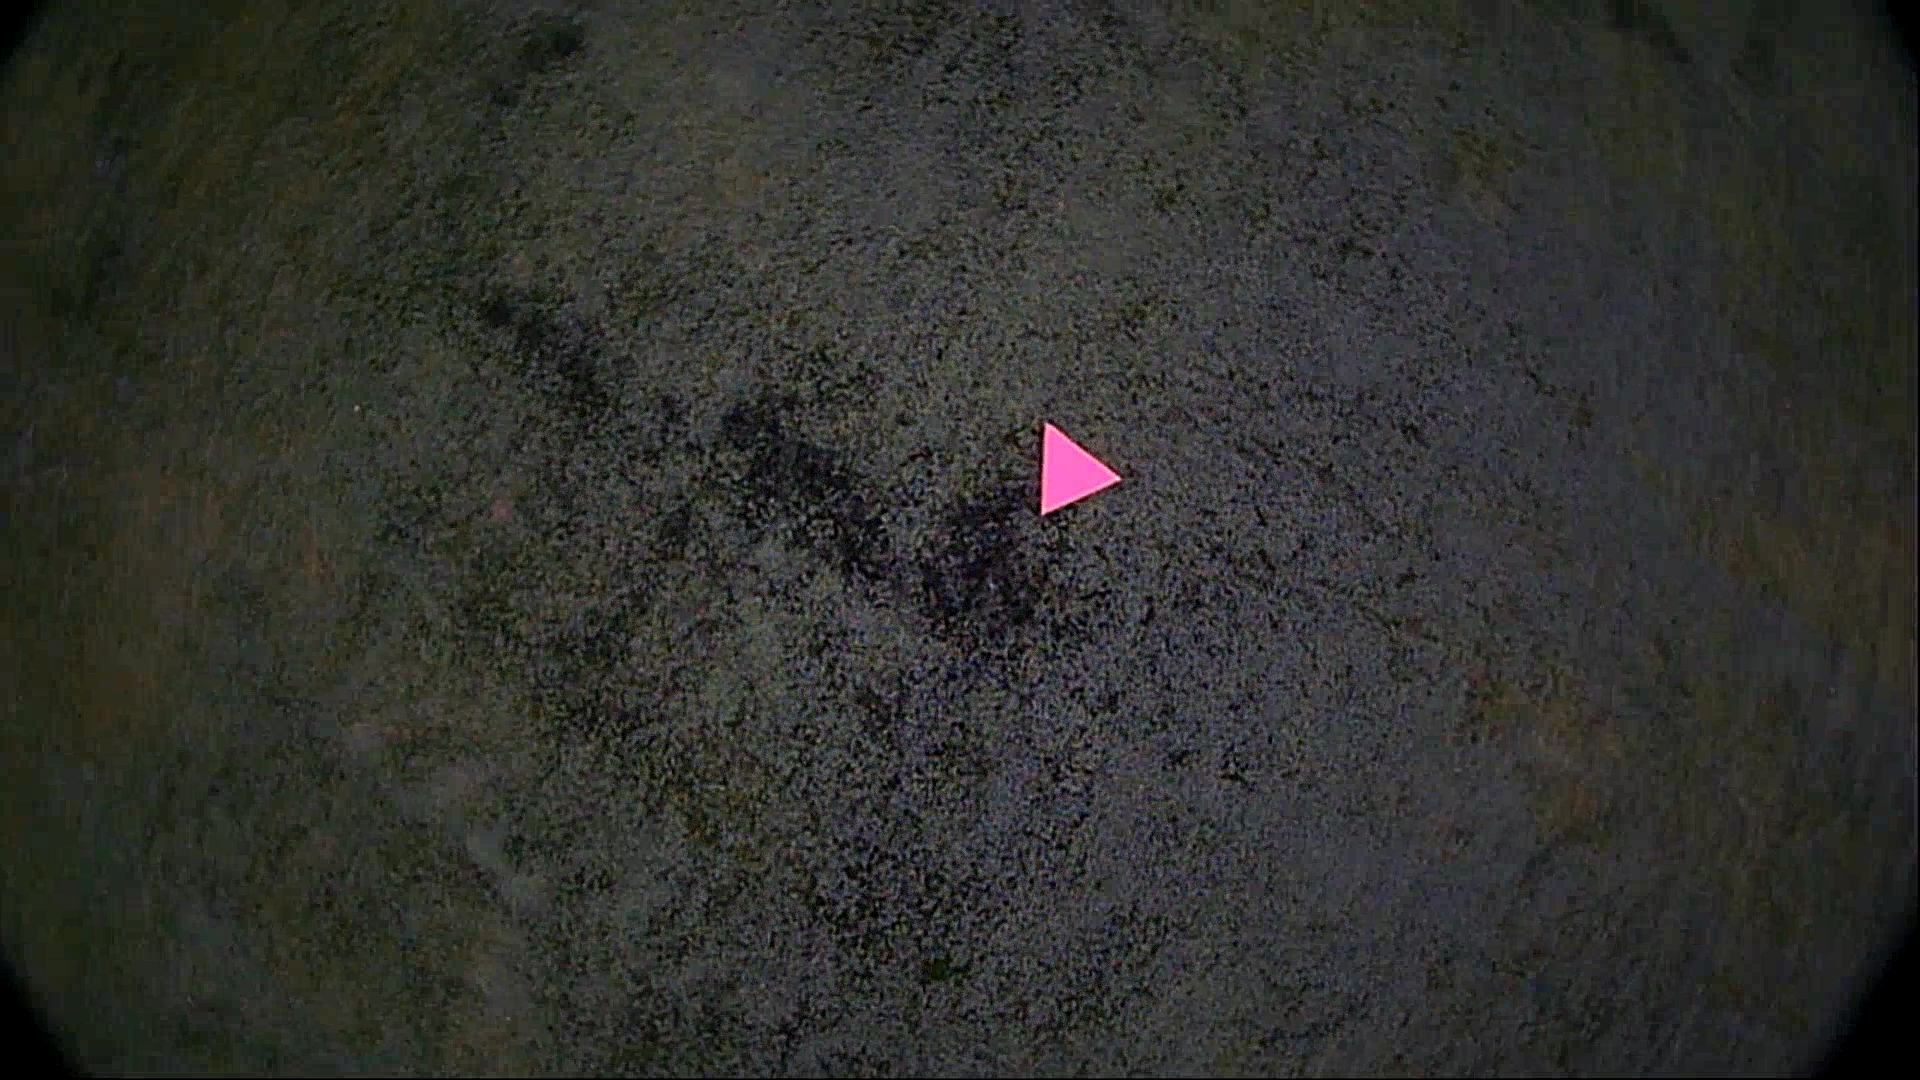triangle: (1026, 415, 1130, 527)
